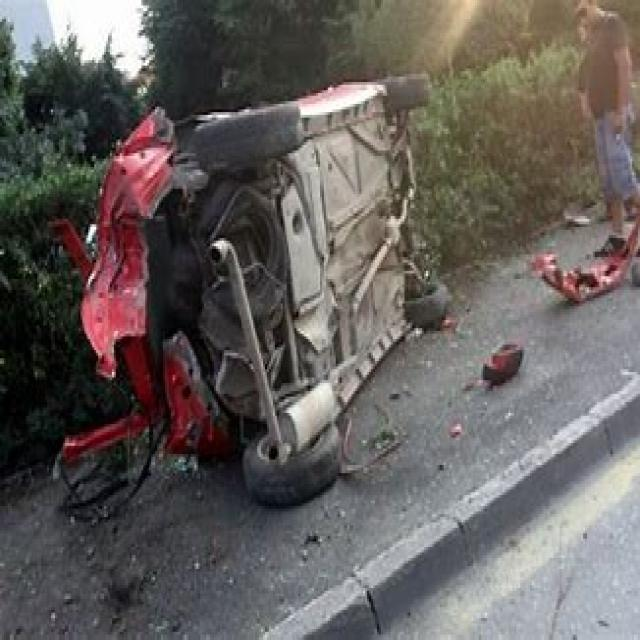Accident: (107, 53, 466, 466)
